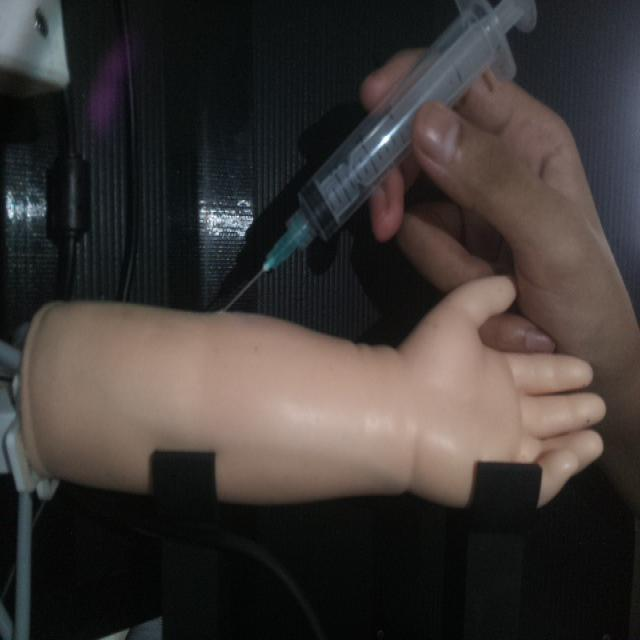Outside: (213, 2, 542, 315)
